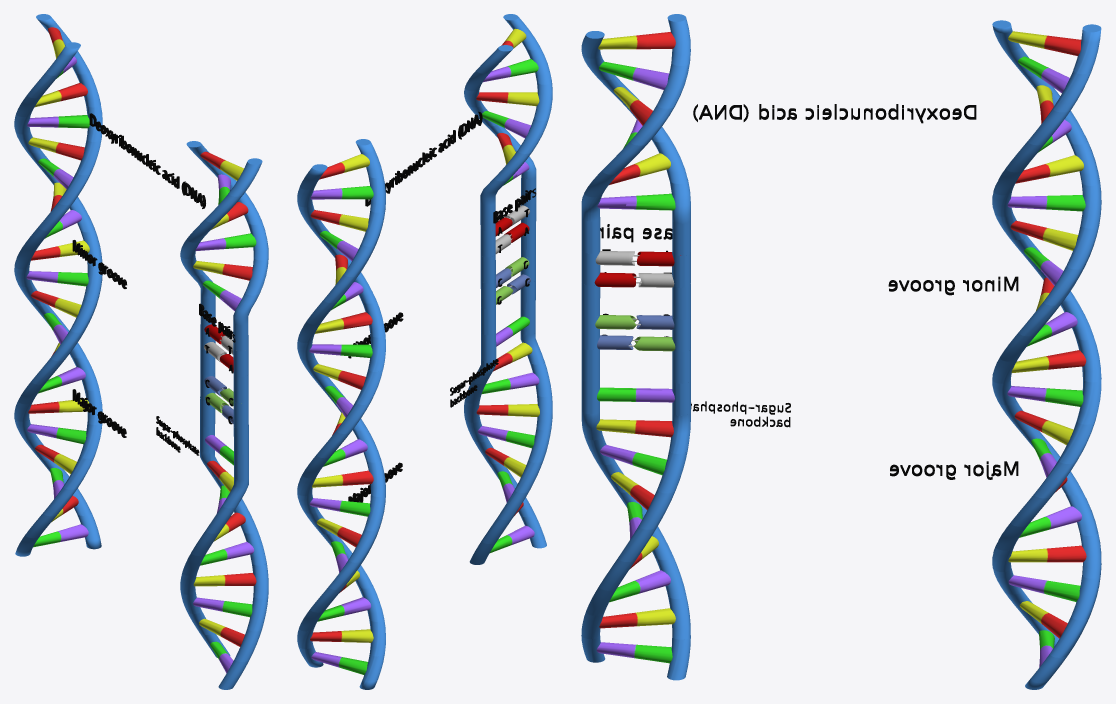
The model's file is deoxyribonucleic_acid_dna.glb.
3 renders of one model, left to right at view 1: azimuth 30°, elevation 25°; view 2: azimuth 150°, elevation 25°; view 3: azimuth 270°, elevation 25°, orthographic. The views are drawn at different scales.
Visible parts, largest first — view 1: DNA1, polySurface7, polySurface15, typeMesh3, typeMesh2, bace; view 2: DNA1, polySurface7, polySurface15, bace, bace1; view 3: polySurface7, DNA1, polySurface15, typeMesh3, typeMesh2, bace.
Part boxes in pixels (x1,y1,x2,y2): DNA1: [14, 14, 102, 556]; polySurface7: [180, 141, 268, 689]; polySurface15: [89, 113, 205, 208]; typeMesh3: [72, 389, 126, 437]; typeMesh2: [72, 240, 126, 288]; bace: [156, 416, 199, 455]; DNA1: [297, 139, 385, 689]; polySurface7: [464, 14, 552, 564]; polySurface15: [365, 111, 482, 206]; bace: [450, 359, 498, 407]; bace1: [493, 188, 536, 223]; polySurface7: [581, 14, 690, 680]; DNA1: [992, 20, 1101, 689]; polySurface15: [693, 104, 976, 123]; typeMesh3: [890, 461, 1018, 479]; typeMesh2: [888, 276, 1018, 295]; bace: [691, 401, 790, 427].
Size of the model in its own units: 0.0619 by 0.4 by 0.2941.
7 materials, 2 textured.
